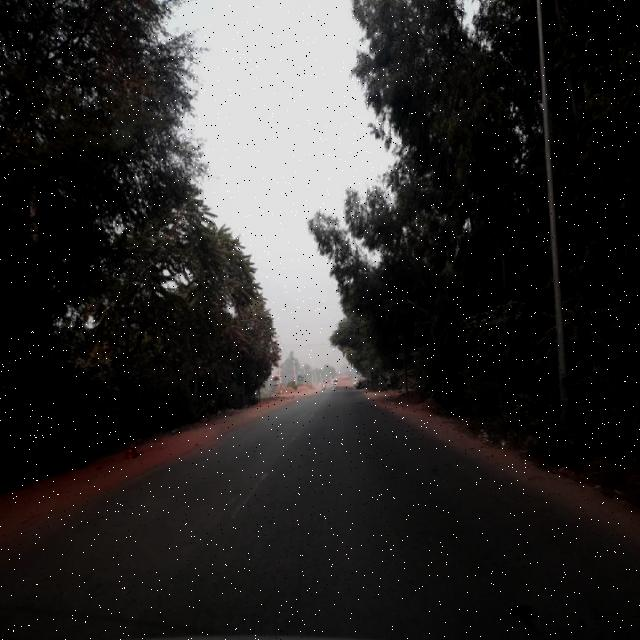D44: (232, 460, 274, 514)
